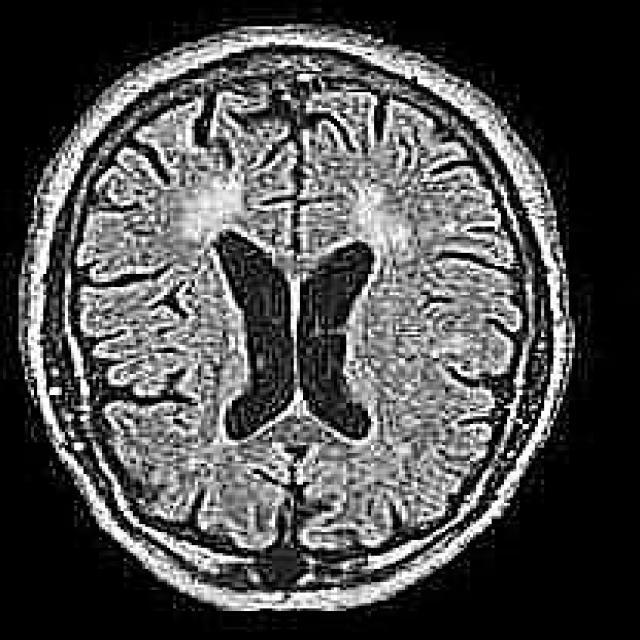notumor: (19, 29, 575, 616)
